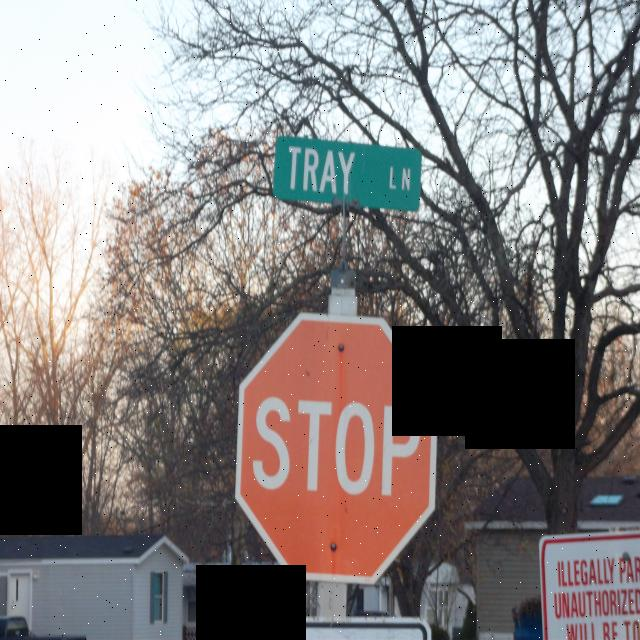regulatory: (533, 524, 640, 640)
stop: (228, 302, 446, 591)
